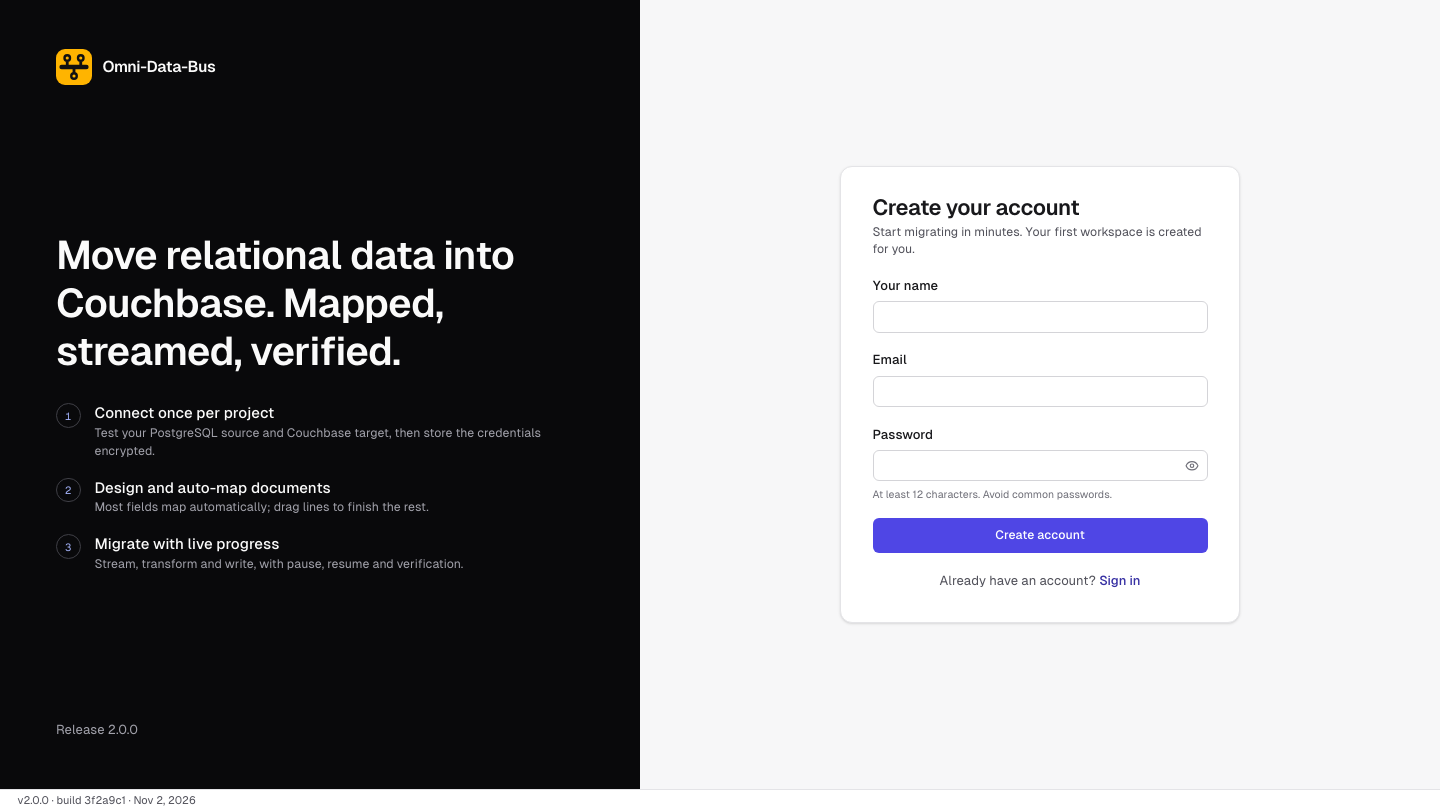
SignUpPage › AC1: shows server field errors
Type "Ada" into the field labelled "Your name".
click(1040, 317); type("Ada")  # box [872,301,1208,333]
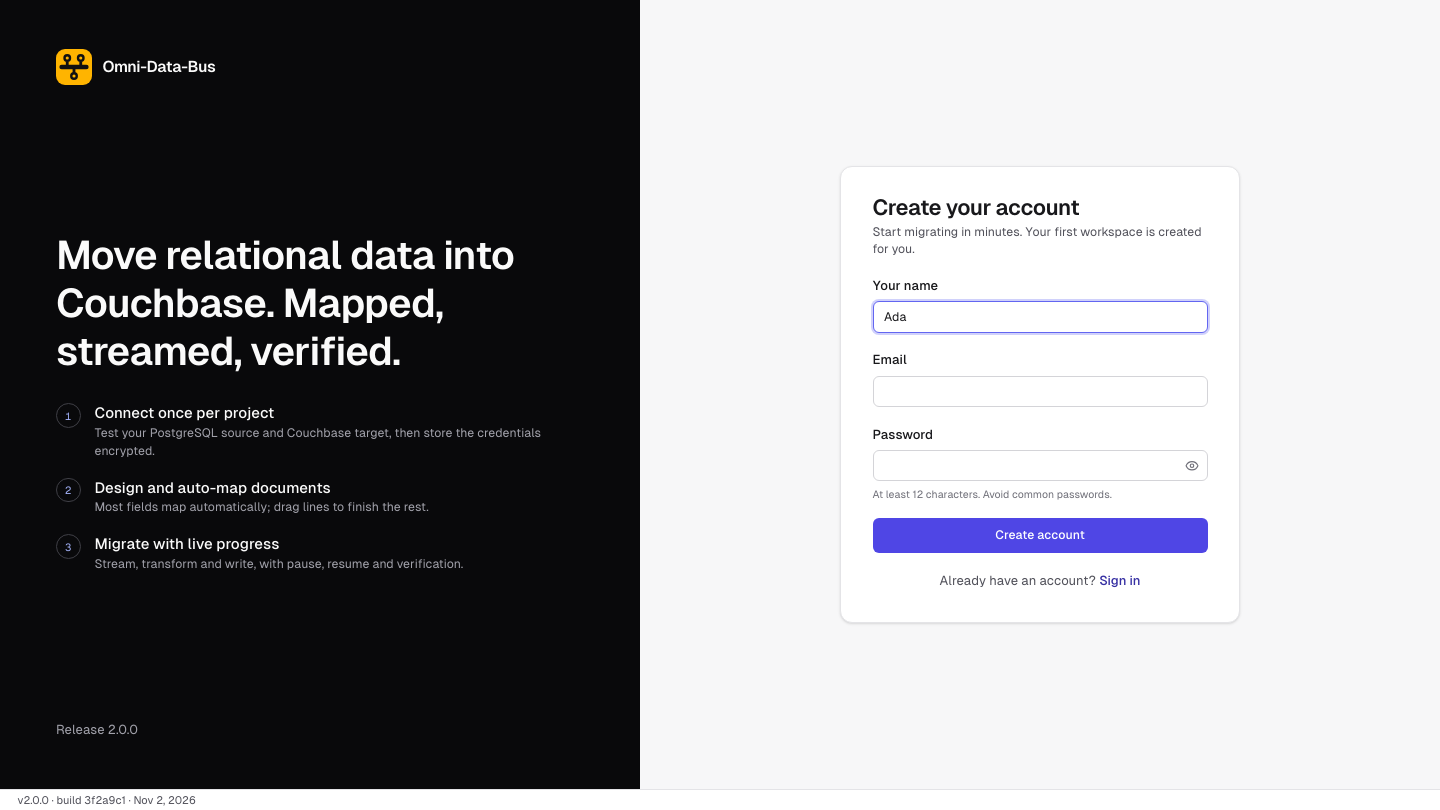
Type "ada@example.com" into the field labelled "Email".
click(1040, 391); type("ada@example.com")  # box [872,376,1208,407]
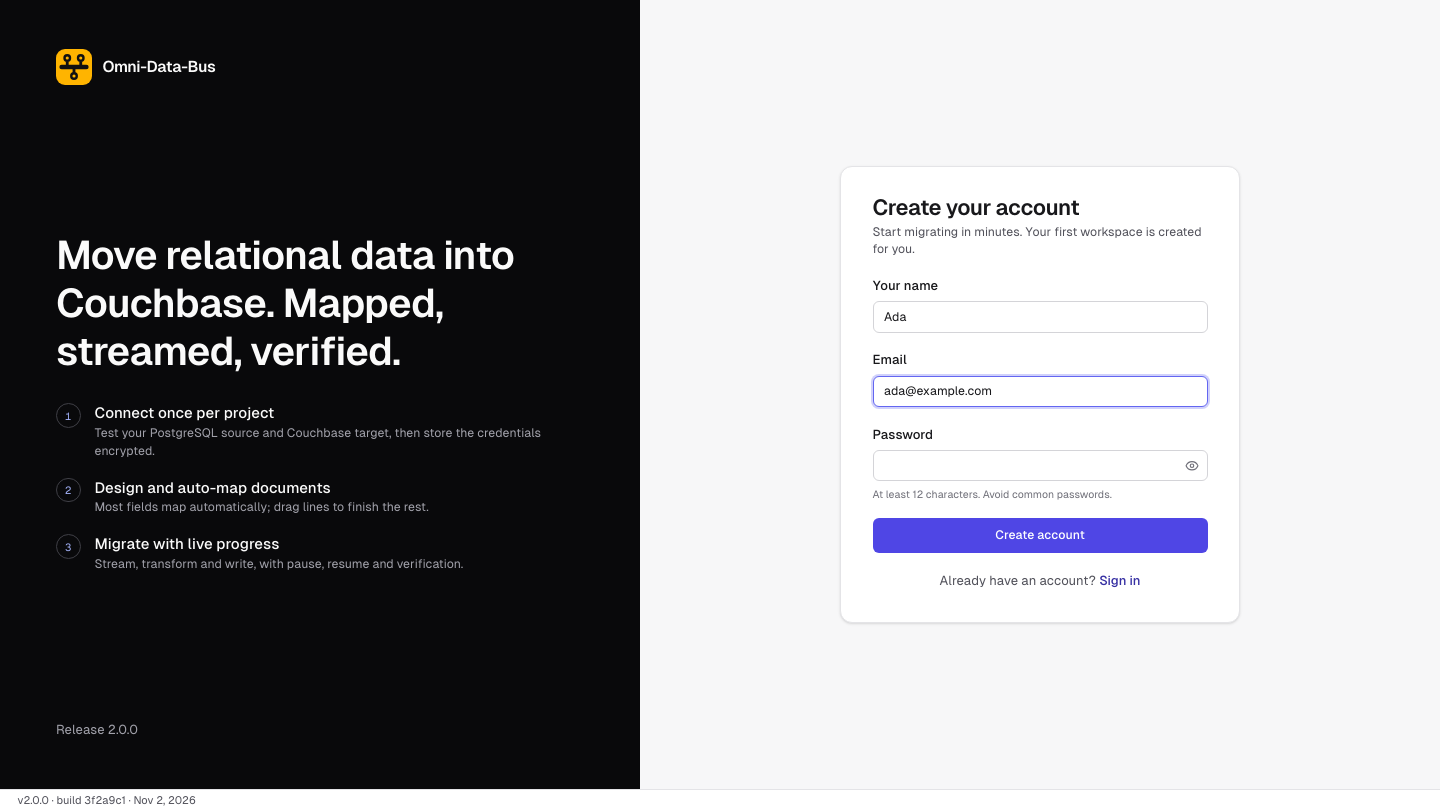
Type "correct horse battery staple" into the password field labelled "Password".
click(1040, 466); type("correct horse battery staple")  # box [872,450,1208,481]
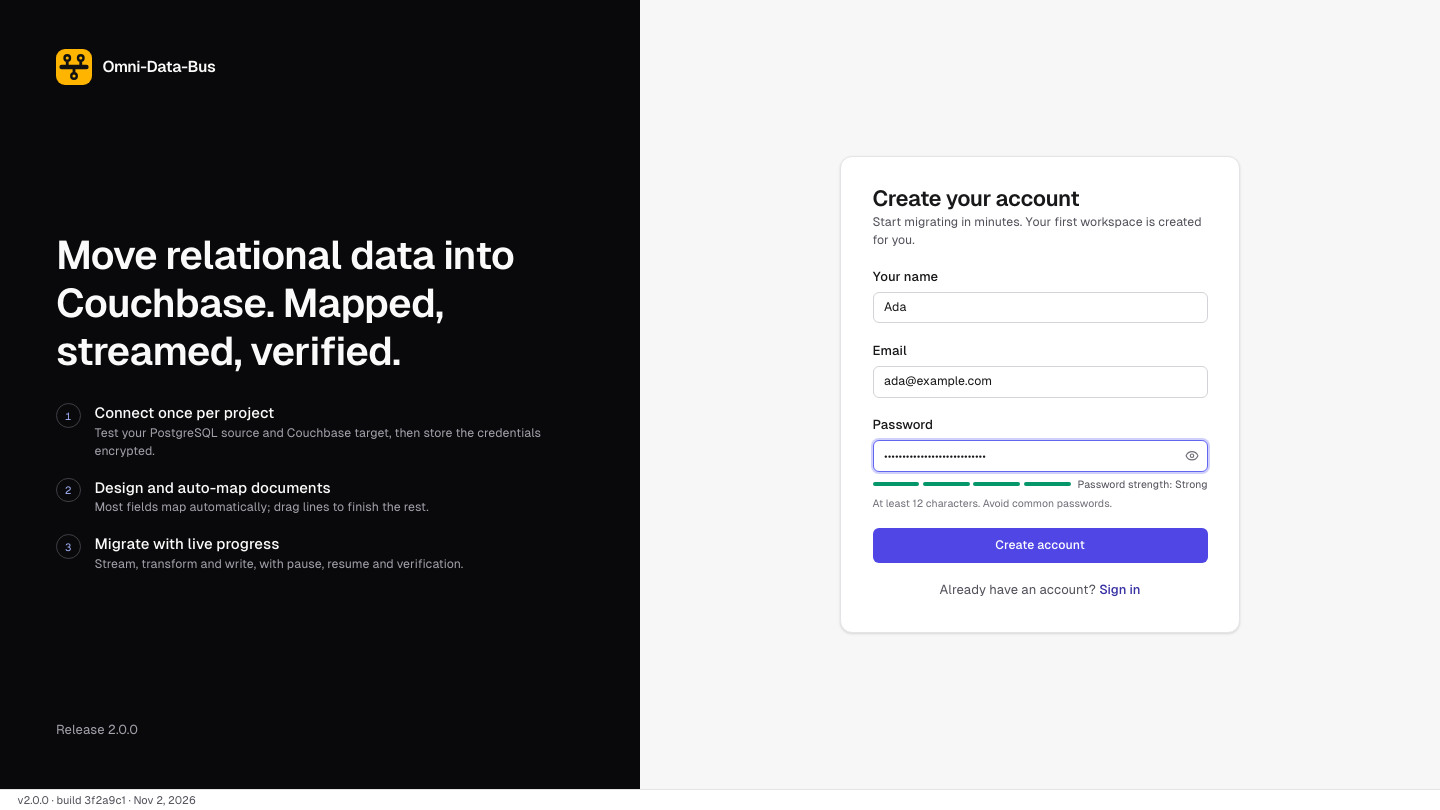
Click the button "Create account".
click(1040, 545)  # box [872,528,1208,563]
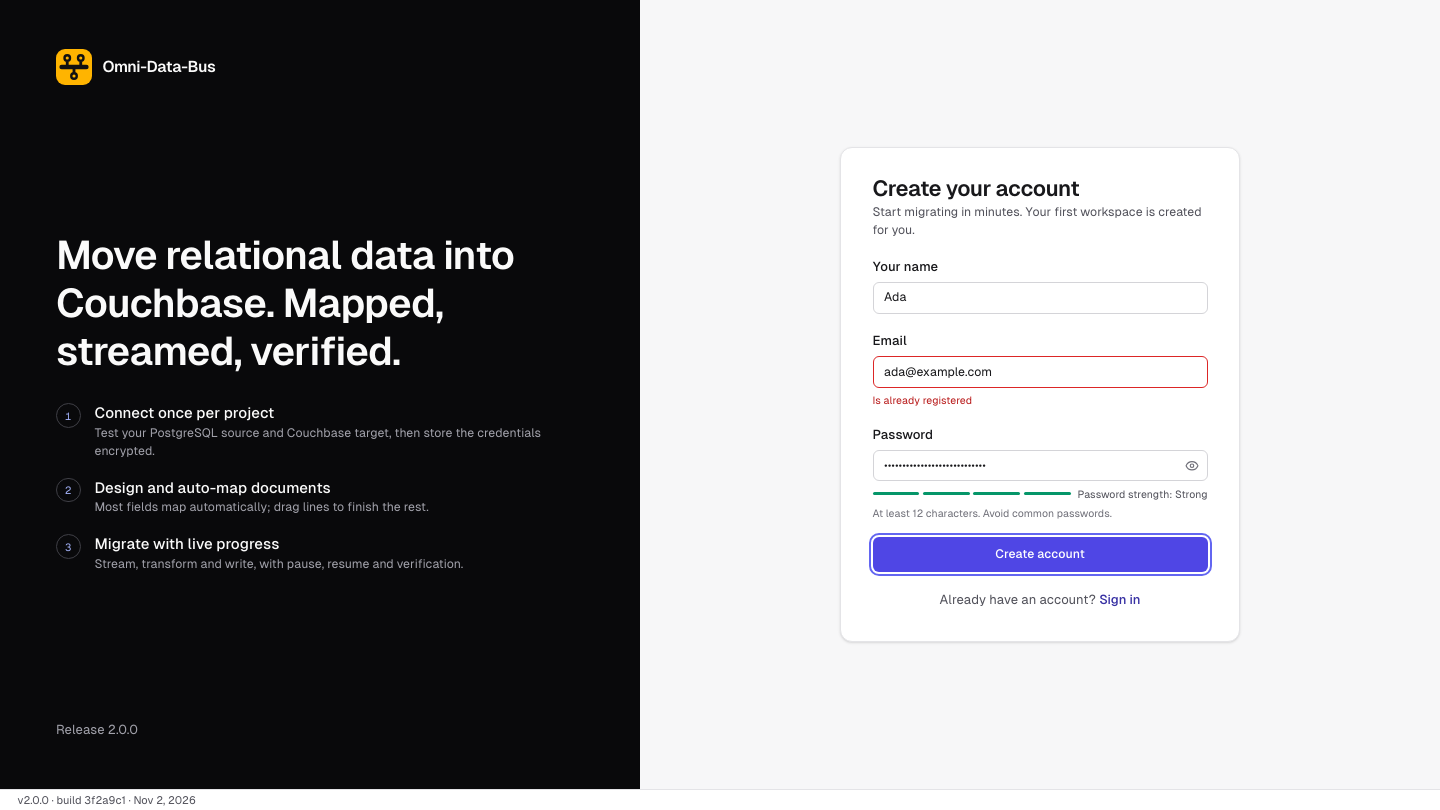
Expected: the text "Is already registered" is shown, [872,394,972,406]
